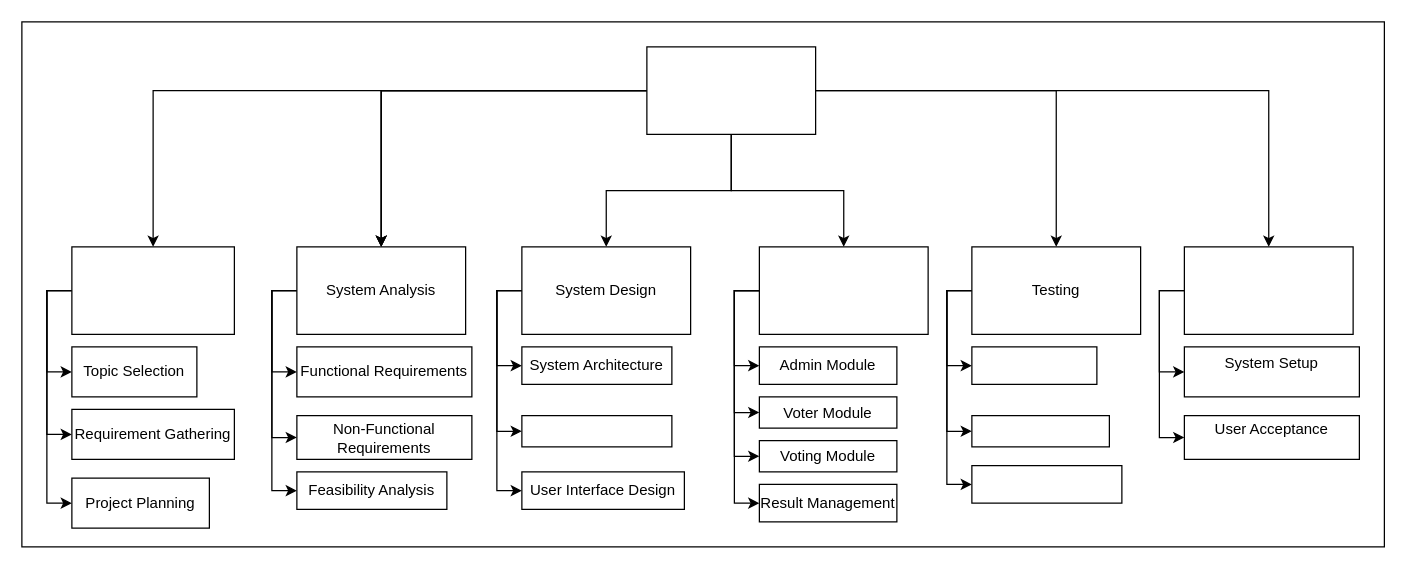
Image size: 1406x569. Some labels were removed from this diagram. The shapes that lost their labels are listed below. From the top down, each one's centre as x and y in pixels, then its label:
(731,90): Online Voting System
(152,290): Project Initialization
(843,290): System Development
(1268,290): Deployment
(1034,365): Test Planning
(596,430): Database Design
(1040,430): Functional Testing
(1046,483): Bug Fixing
